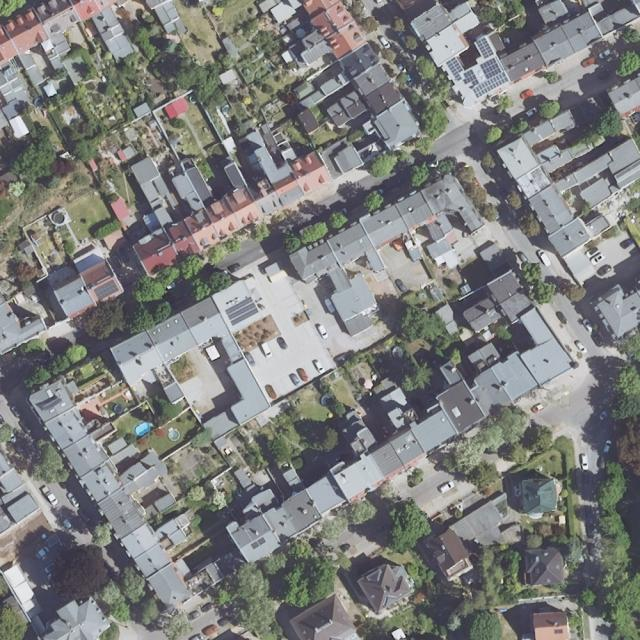PV: (462, 57, 509, 98), (225, 296, 259, 325), (93, 279, 119, 300), (475, 37, 494, 59), (447, 57, 464, 80), (251, 537, 266, 549)
